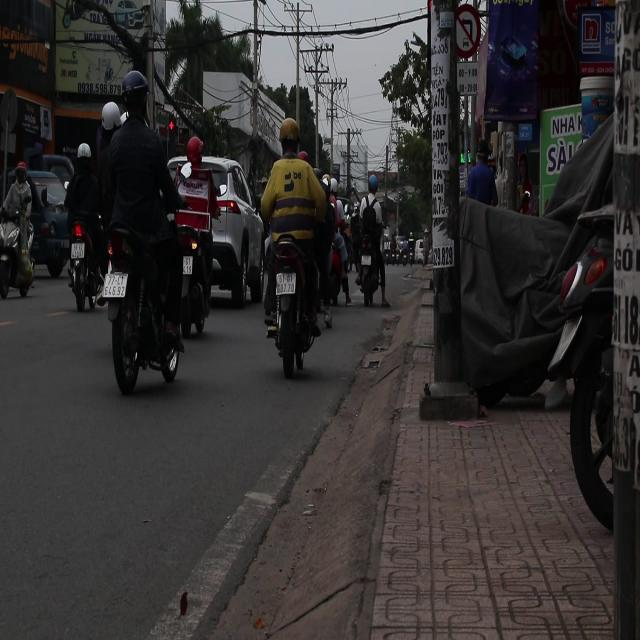car: (196, 156, 264, 311), (28, 172, 70, 279), (30, 154, 76, 190)
motorbike: (101, 218, 182, 386), (175, 181, 219, 335), (273, 226, 315, 372), (65, 210, 108, 310), (357, 235, 382, 305)
